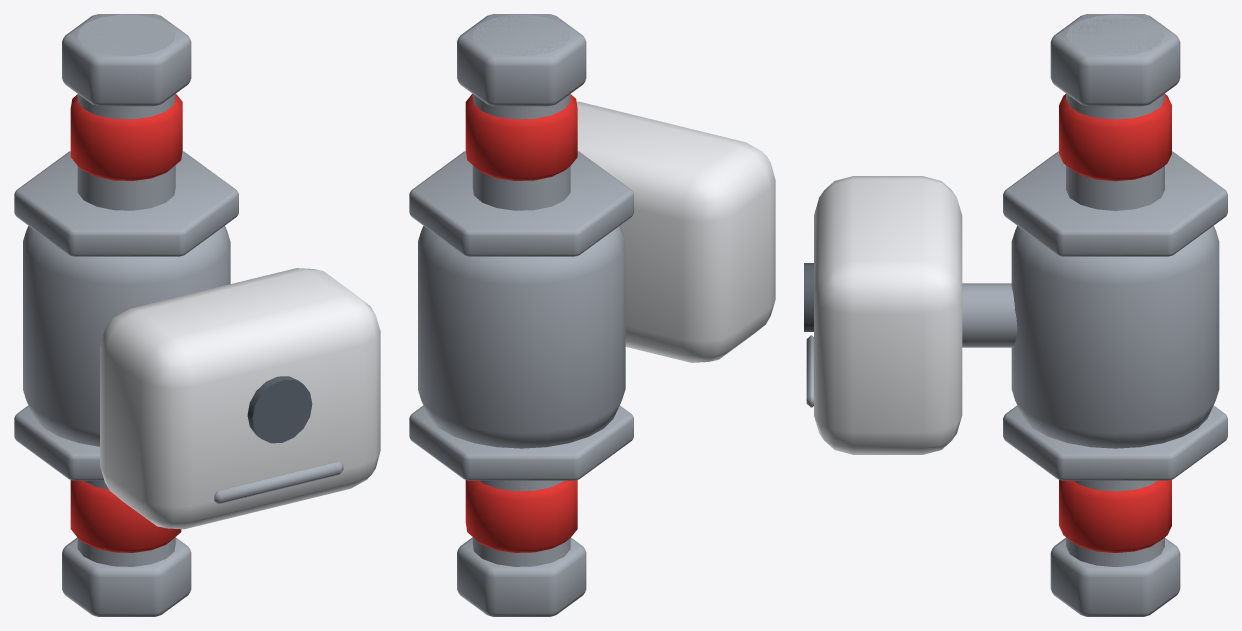
The model's file is heizung.ventil_2weg.glb.
3 renders of one model, left to right at view 1: azimuth 30°, elevation 25°; view 2: azimuth 150°, elevation 25°; view 3: azimuth 270°, elevation 25°, orthographic.
Parts seen in each view (by area): view 1: heizung.ventil_2weg; view 2: heizung.ventil_2weg; view 3: heizung.ventil_2weg.
Boxes of the visible parts, x1,y1,x2,y2 form: heizung.ventil_2weg: [14, 14, 380, 616]; heizung.ventil_2weg: [409, 14, 775, 616]; heizung.ventil_2weg: [804, 14, 1227, 616].
Size of the model in its own units: 0.11 by 0.25 by 0.1715.
